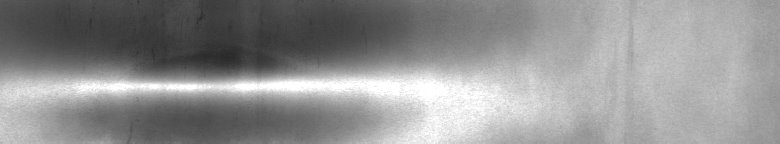ke: (28, 12, 404, 136)
